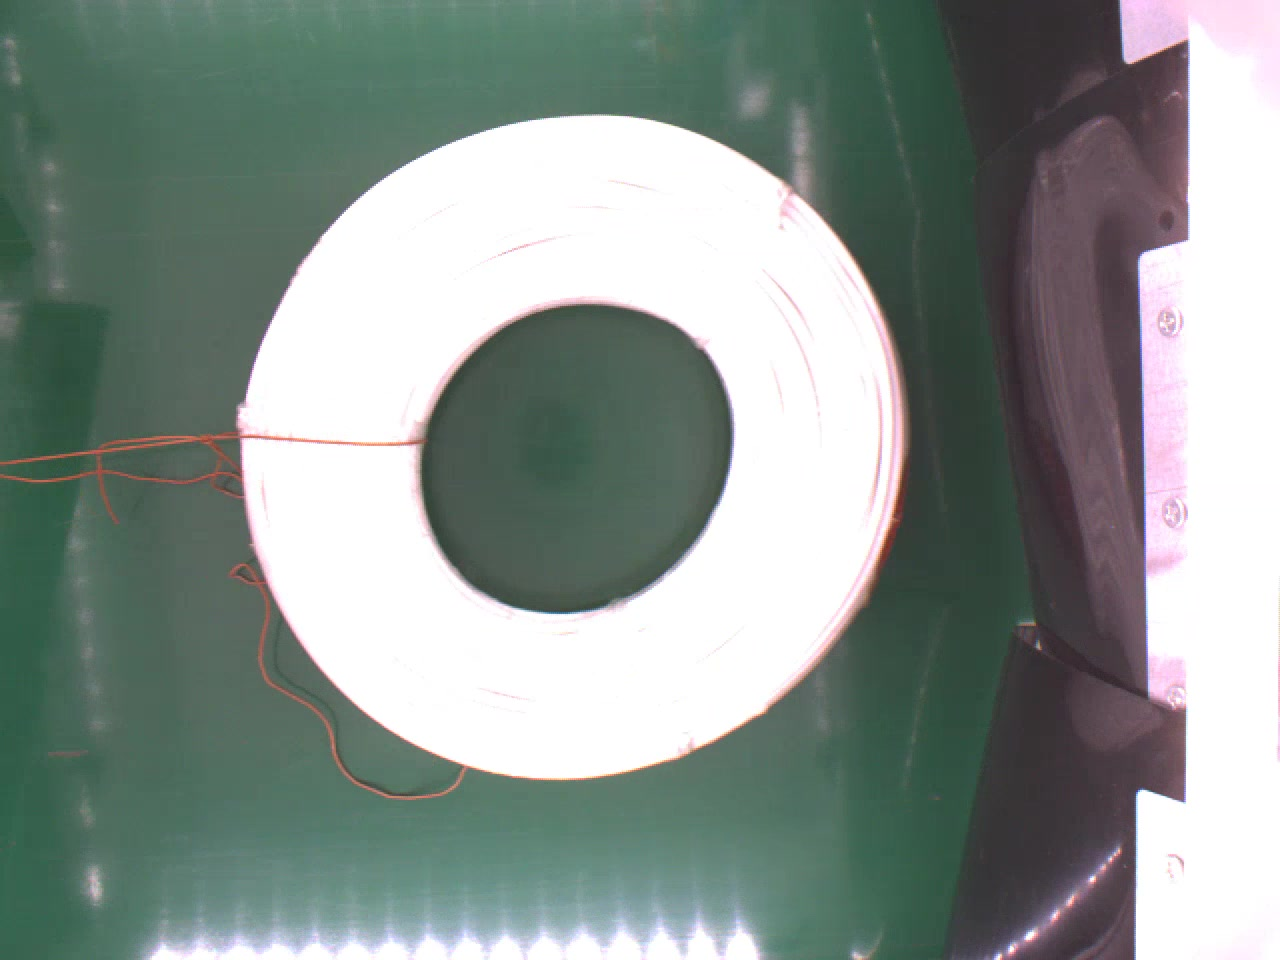white: (240, 110, 909, 781)
